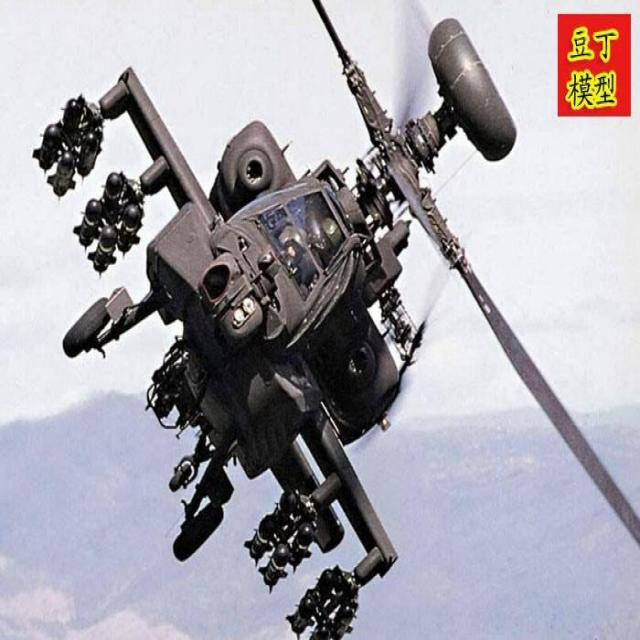MIL_HELO: (38, 8, 640, 640)
